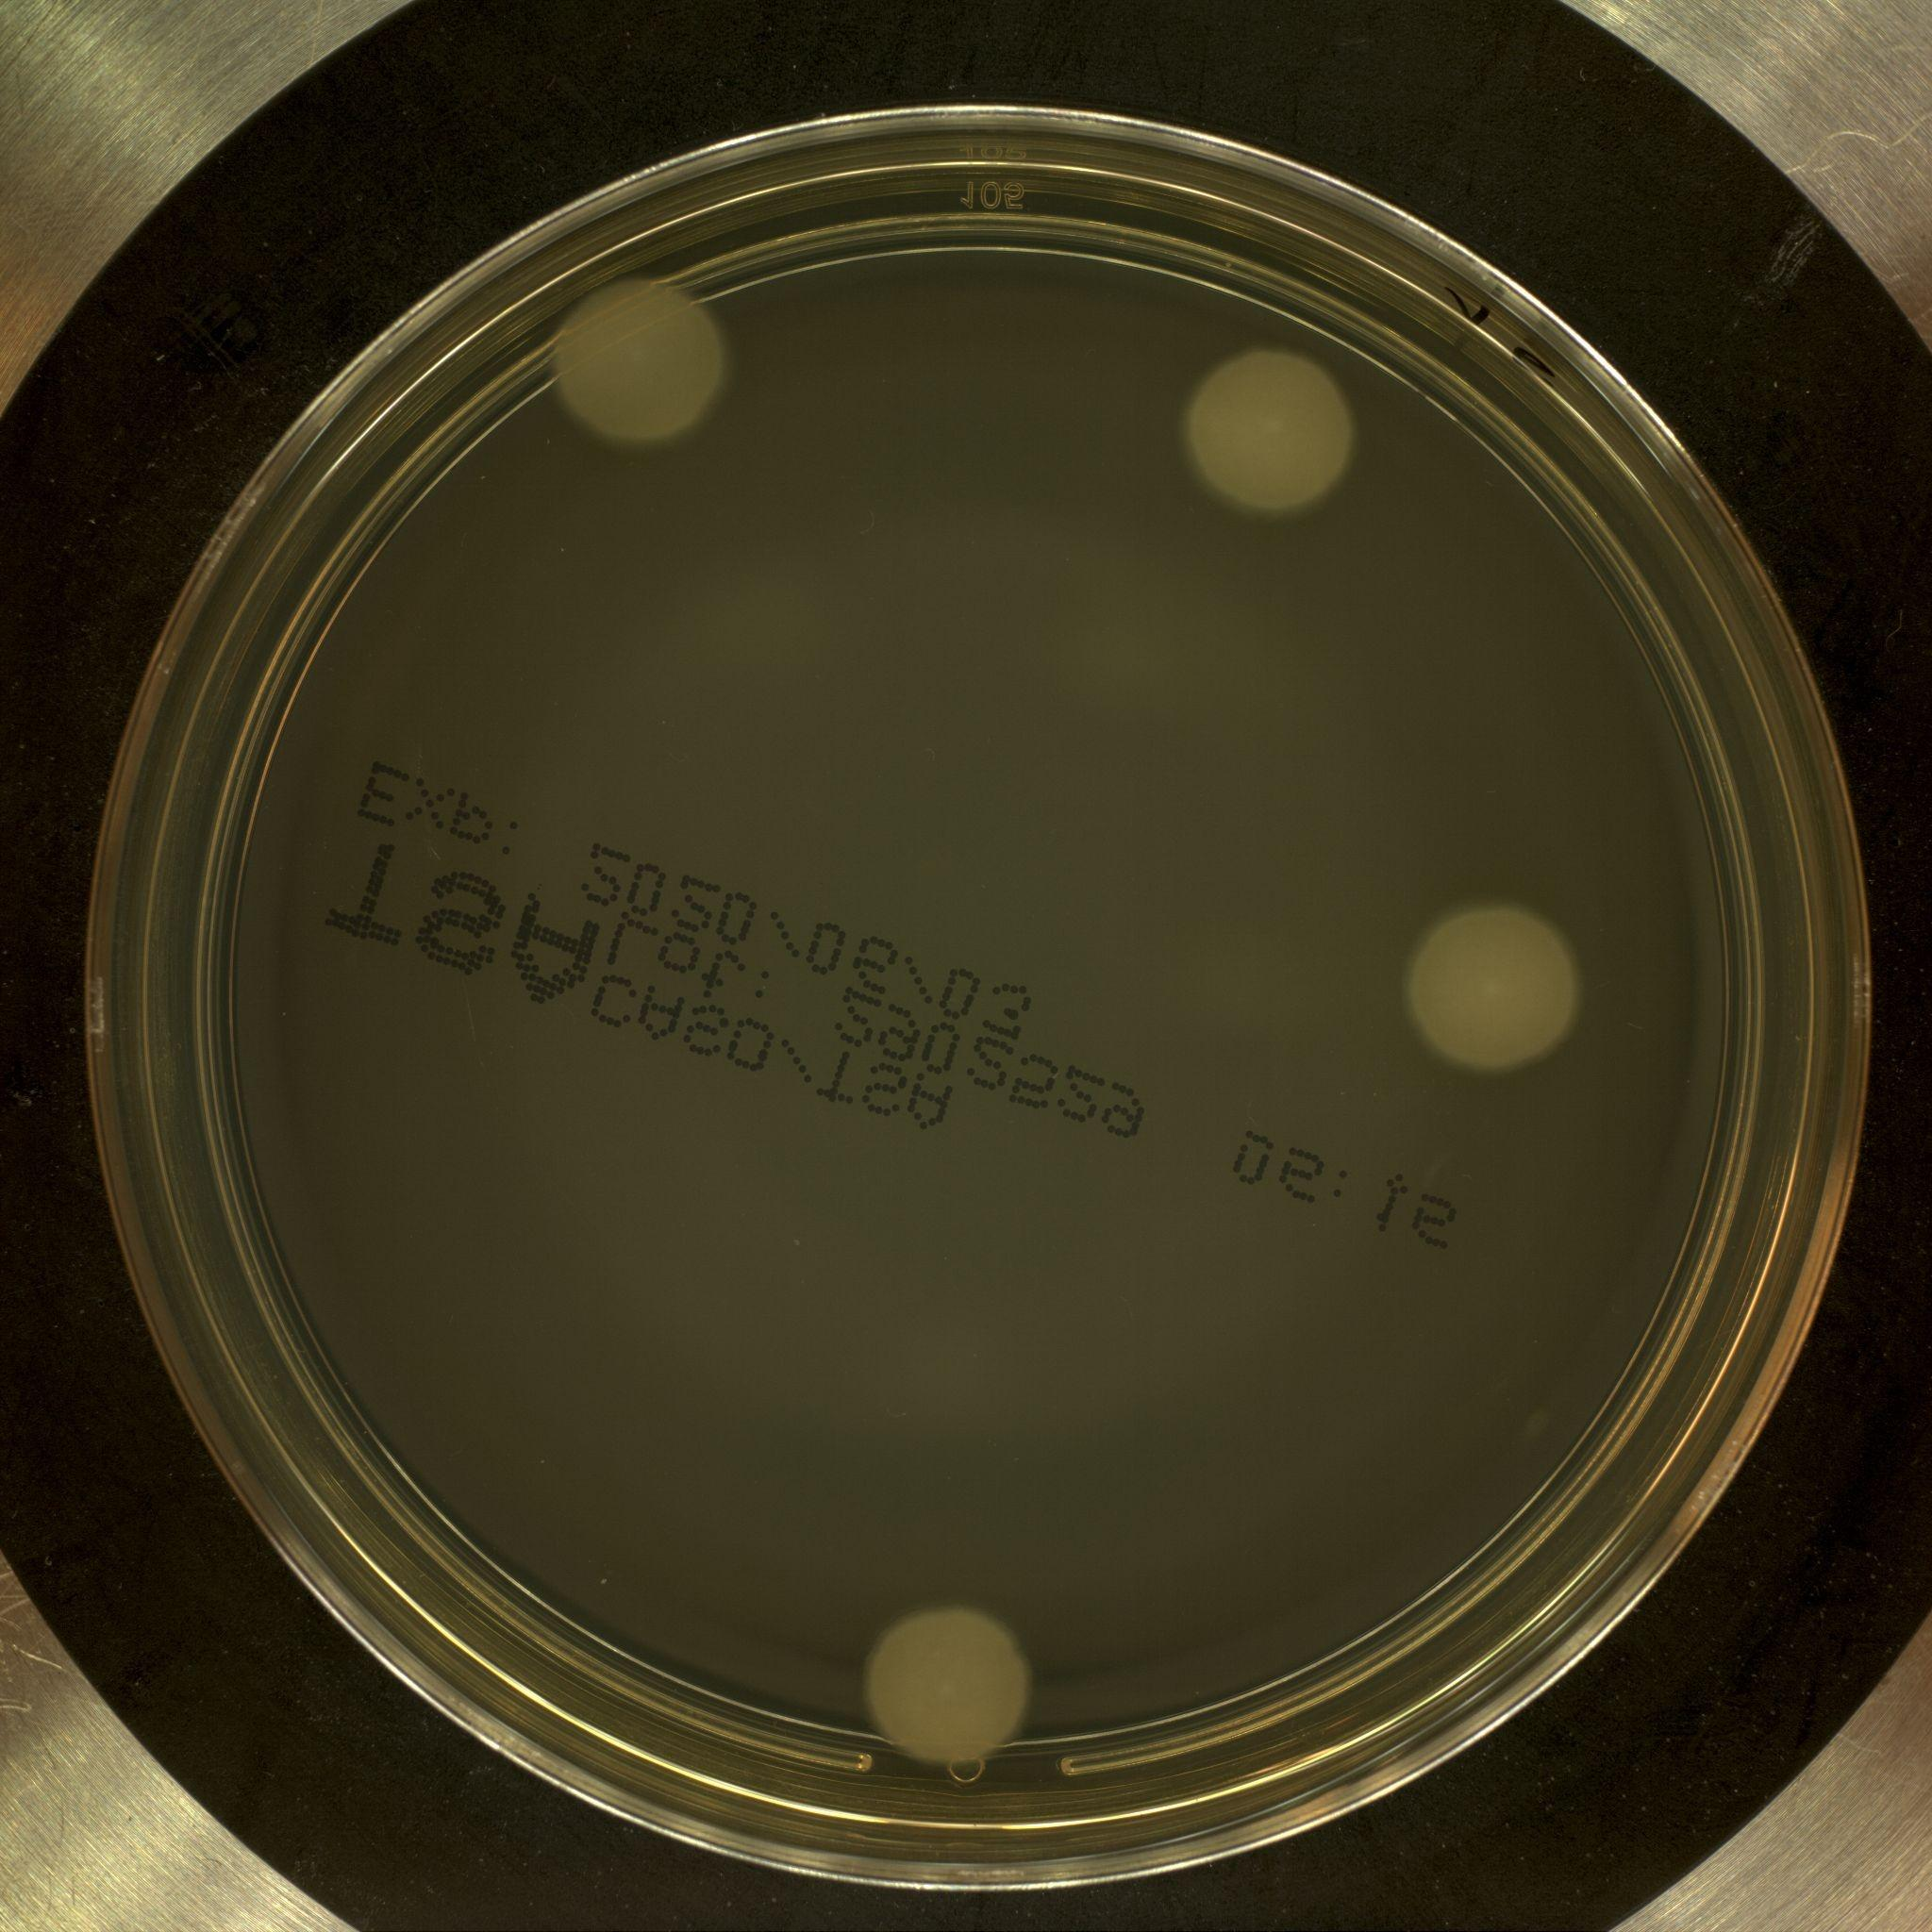e. coli: (548, 278, 752, 453), (1412, 901, 1591, 1076), (1189, 340, 1355, 518), (865, 1603, 1030, 1759)
